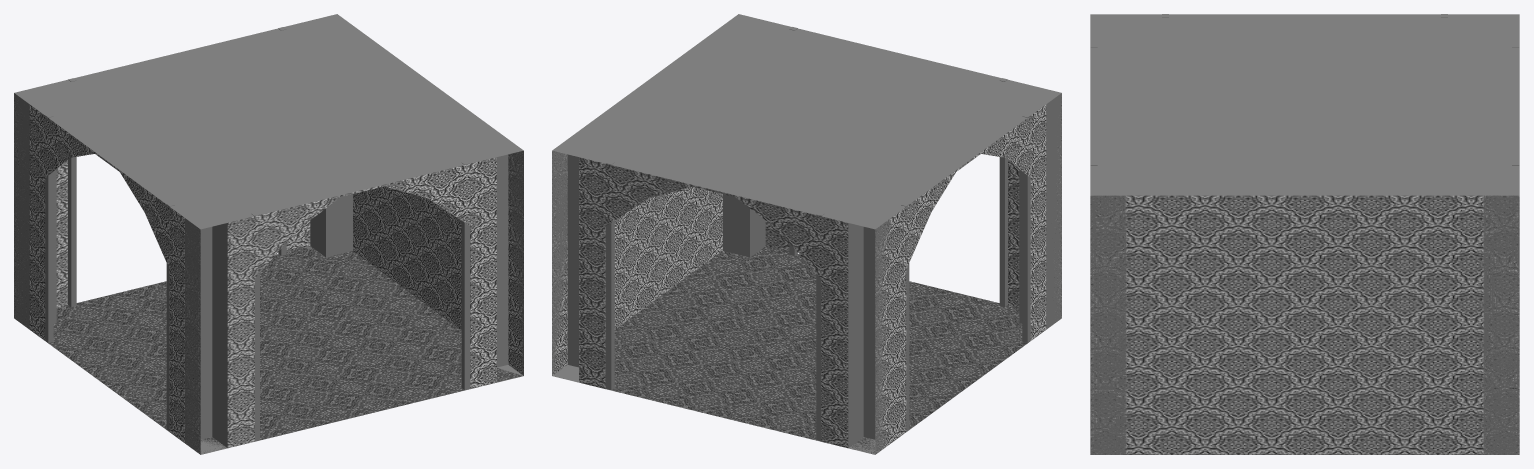
File: Hallway_Connector_B.fbx
3 renders of one model, left to right at view 1: azimuth 30°, elevation 25°; view 2: azimuth 150°, elevation 25°; view 3: azimuth 270°, elevation 25°, orthographic. The views are drawn at different scales.
Parts seen in each view (by area): view 1: Hallway_Connector_B; view 2: Hallway_Connector_B; view 3: Hallway_Connector_B.
Boxes of the visible parts, x1,y1,x2,y2 form: Hallway_Connector_B: (14, 14, 523, 454); Hallway_Connector_B: (552, 14, 1061, 454); Hallway_Connector_B: (1090, 14, 1519, 454).
Size of the model in its own units: 9 by 6.01 by 9.
3 materials, 2 textured.
